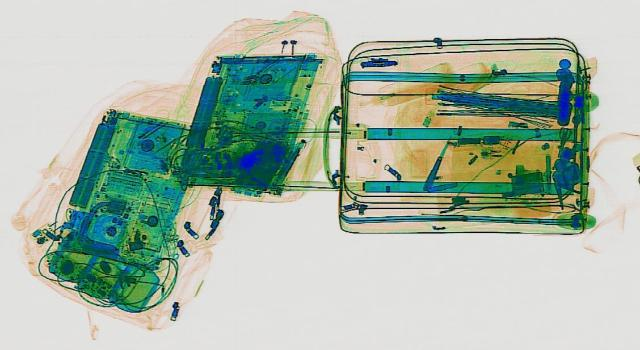Knife: (419, 134, 453, 188)
